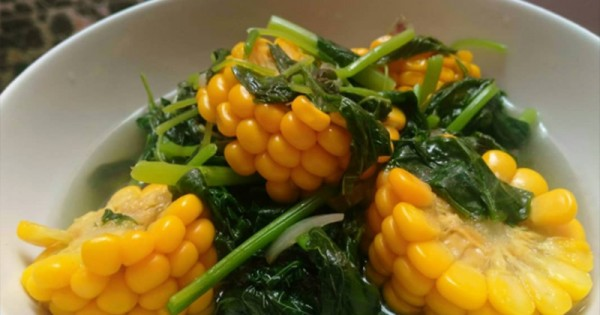Sayur Bayam: (108, 28, 571, 299)
